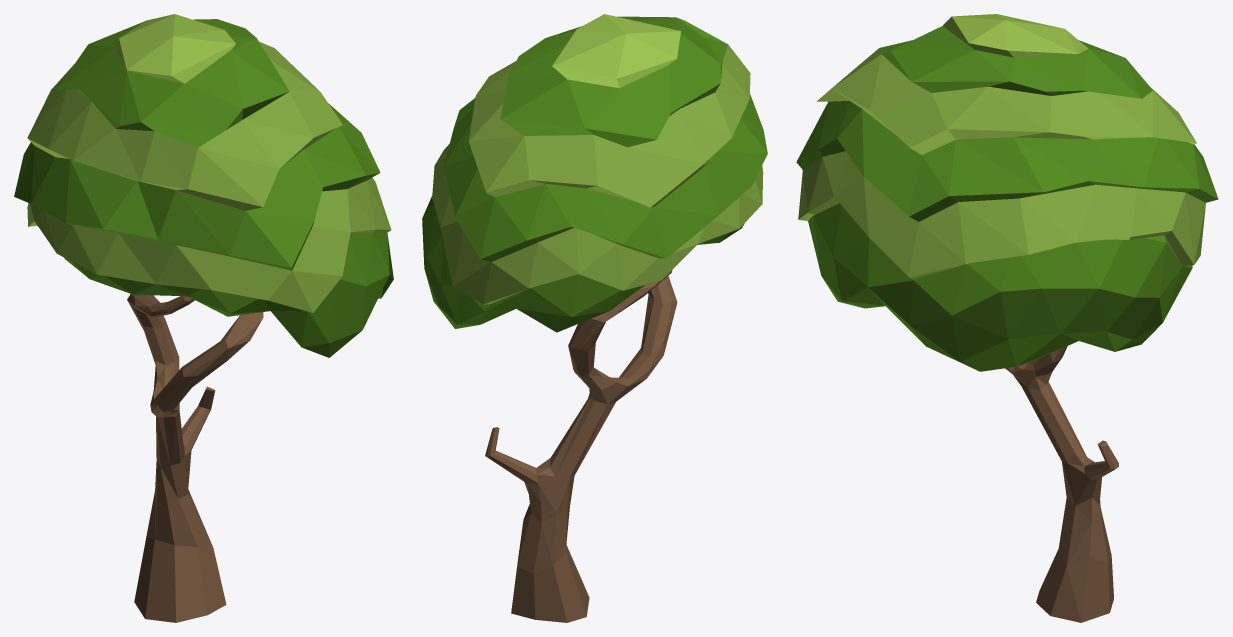
The model's file is twisted.glb.
3 views of the same model, side by side, from view 1: azimuth 30°, elevation 25°; view 2: azimuth 150°, elevation 25°; view 3: azimuth 270°, elevation 25° (orthographic). The views are drawn at different scales.
Visible parts, largest first — view 1: model; view 2: model; view 3: model.
Part boxes in pixels (x1,y1,x2,y2): model: [14, 14, 393, 622]; model: [422, 14, 767, 622]; model: [796, 14, 1218, 622].
Bounding box in the file's own units: 4.07 × 7.46 × 5.05.
